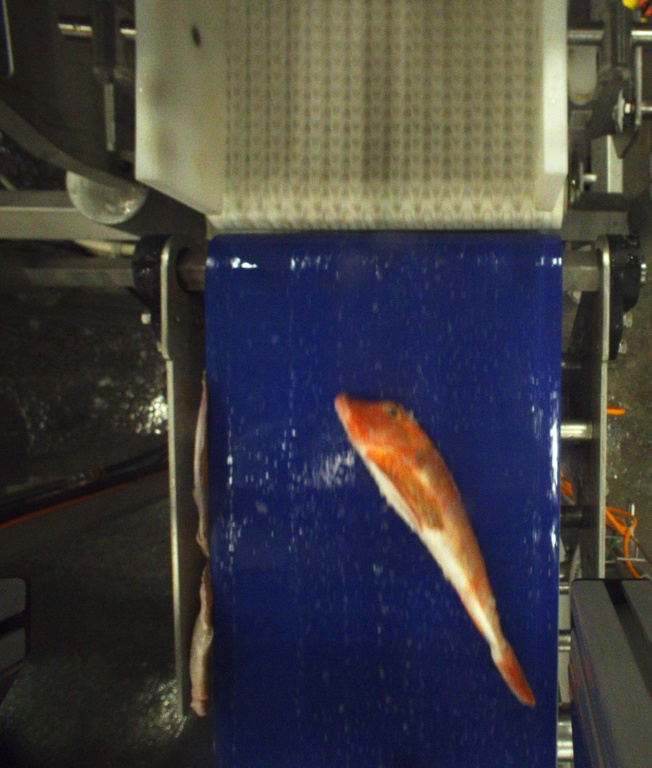GUU: (333, 395, 535, 708)
